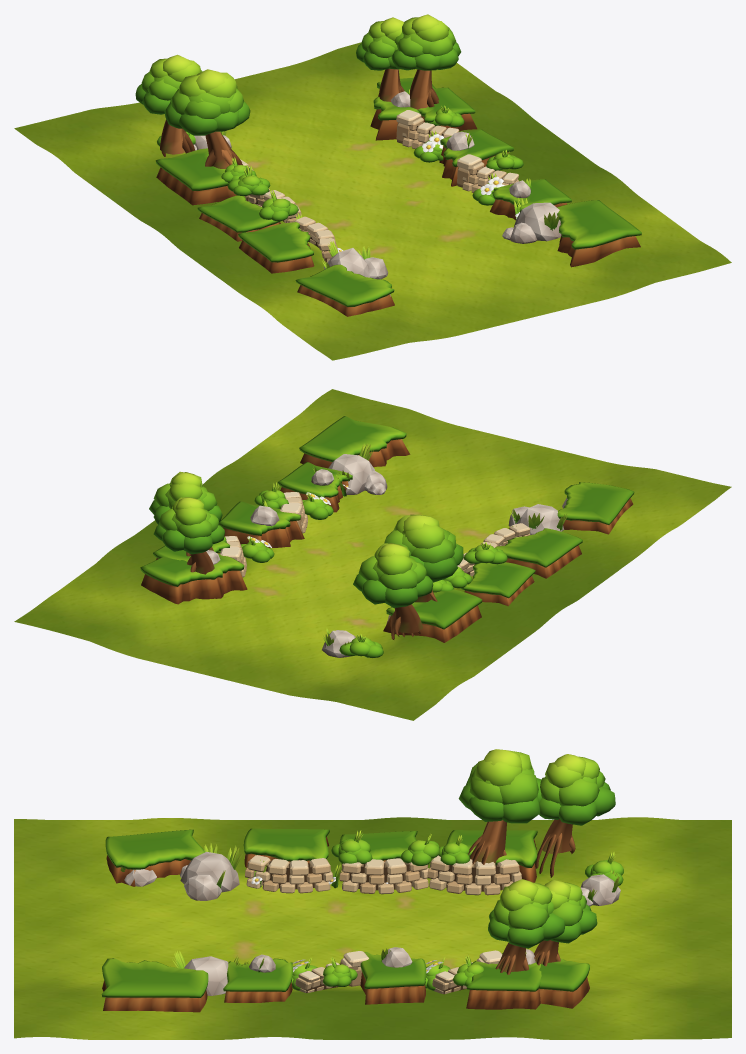
File: field-meadow.glb
3 renders of one model, top to bottom at view 1: azimuth 30°, elevation 25°; view 2: azimuth 150°, elevation 25°; view 3: azimuth 270°, elevation 25°, orthographic. The views are drawn at different scales.
Parts seen in each view (by area): view 1: meadow_Ground, Meadow_Tree_L1.001, Meadow_Bank_R_Bot, Meadow_Tree_R2.001, Meadow_Bank_L_Bot, Meadow_Tree_L2_Back, Meadow_Bank_L_Top, Meadow_Bank_L_Low, Meadow_Tree_R1.001, Meadow_Bank_L_Mid, Meadow_Rock_BR1.001, Meadow_Bank_R_Low (+10 smaller); view 2: meadow_Ground, Meadow_Tree_L2_Back, Meadow_Bank_R_Top1, Meadow_Bank_R_Bot, Meadow_Tree_R1.001, Meadow_Tree_L1.001, Meadow_Bank_L_Bot, Meadow_Bank_L_Top, Meadow_Bank_L_Low, Meadow_Bank_R_Mid, Meadow_Bank_L_Mid, Meadow_Tree_R2.001 (+10 smaller); view 3: meadow_Ground, Meadow_Tree_L1.001, Meadow_Tree_L2_Back, Meadow_Bank_R_Bot, Meadow_Tree_R2.001, Meadow_Bank_L_Bot, Meadow_Bank_R_Top2, Meadow_Wall_L1.001, Meadow_Bank_R_Mid, Meadow_Wall_L3.001, Meadow_Wall_L2.001, Meadow_Bank_L_Low (+17 smaller).
Boxes of the visible parts, left/top/right/bottom form: meadow_Ground: left=14, top=42, right=731, bottom=360; Meadow_Tree_L1.001: left=164, top=69, right=250, bottom=195; Meadow_Bank_R_Bot: left=557, top=200, right=641, bottom=267; Meadow_Tree_R2.001: left=391, top=14, right=461, bottom=109; Meadow_Bank_L_Bot: left=295, top=264, right=394, bottom=316; Meadow_Tree_L2_Back: left=135, top=54, right=202, bottom=156; Meadow_Bank_L_Top: left=155, top=148, right=236, bottom=205; Meadow_Bank_L_Low: left=238, top=222, right=314, bottom=273; Meadow_Tree_R1.001: left=356, top=17, right=404, bottom=101; Meadow_Bank_L_Mid: left=197, top=195, right=281, bottom=241; Meadow_Rock_BR1.001: left=502, top=198, right=561, bottom=243; Meadow_Bank_R_Low: left=490, top=179, right=571, bottom=220; meadow_Ground: left=14, top=389, right=731, bottom=720; Meadow_Tree_L2_Back: left=353, top=543, right=433, bottom=639; Meadow_Bank_R_Top1: left=140, top=553, right=247, bottom=604; Meadow_Bank_R_Bot: left=299, top=416, right=410, bottom=468; Meadow_Tree_R1.001: left=153, top=497, right=224, bottom=574; Meadow_Tree_L1.001: left=384, top=514, right=463, bottom=602; Meadow_Bank_L_Bot: left=557, top=482, right=634, bottom=534; Meadow_Bank_L_Top: left=383, top=589, right=482, bottom=642; Meadow_Bank_L_Low: left=495, top=528, right=582, bottom=578; Meadow_Bank_R_Mid: left=219, top=501, right=304, bottom=548; Meadow_Bank_L_Mid: left=460, top=562, right=535, bottom=606; Meadow_Tree_R2.001: left=149, top=471, right=222, bottom=556; meadow_Ground: left=14, top=817, right=731, bottom=1039; Meadow_Tree_L1.001: left=458, top=749, right=541, bottom=864; Meadow_Tree_L2_Back: left=535, top=754, right=615, bottom=877; Meadow_Bank_R_Bot: left=101, top=958, right=208, bottom=1012; Meadow_Tree_R2.001: left=488, top=879, right=565, bottom=974; Meadow_Bank_L_Bot: left=105, top=829, right=204, bottom=886; Meadow_Bank_R_Top2: left=466, top=961, right=541, bottom=1009; Meadow_Wall_L1.001: left=427, top=855, right=521, bottom=895; Meadow_Bank_R_Mid: left=360, top=952, right=426, bottom=1004; Meadow_Wall_L3.001: left=245, top=855, right=332, bottom=893; Meadow_Wall_L2.001: left=339, top=858, right=428, bottom=894; Meadow_Bank_L_Low: left=243, top=828, right=329, bottom=867.
Bounding box in the file's own units: 21 × 5.92 × 29.
Materials: 4 (1 with a texture image).
